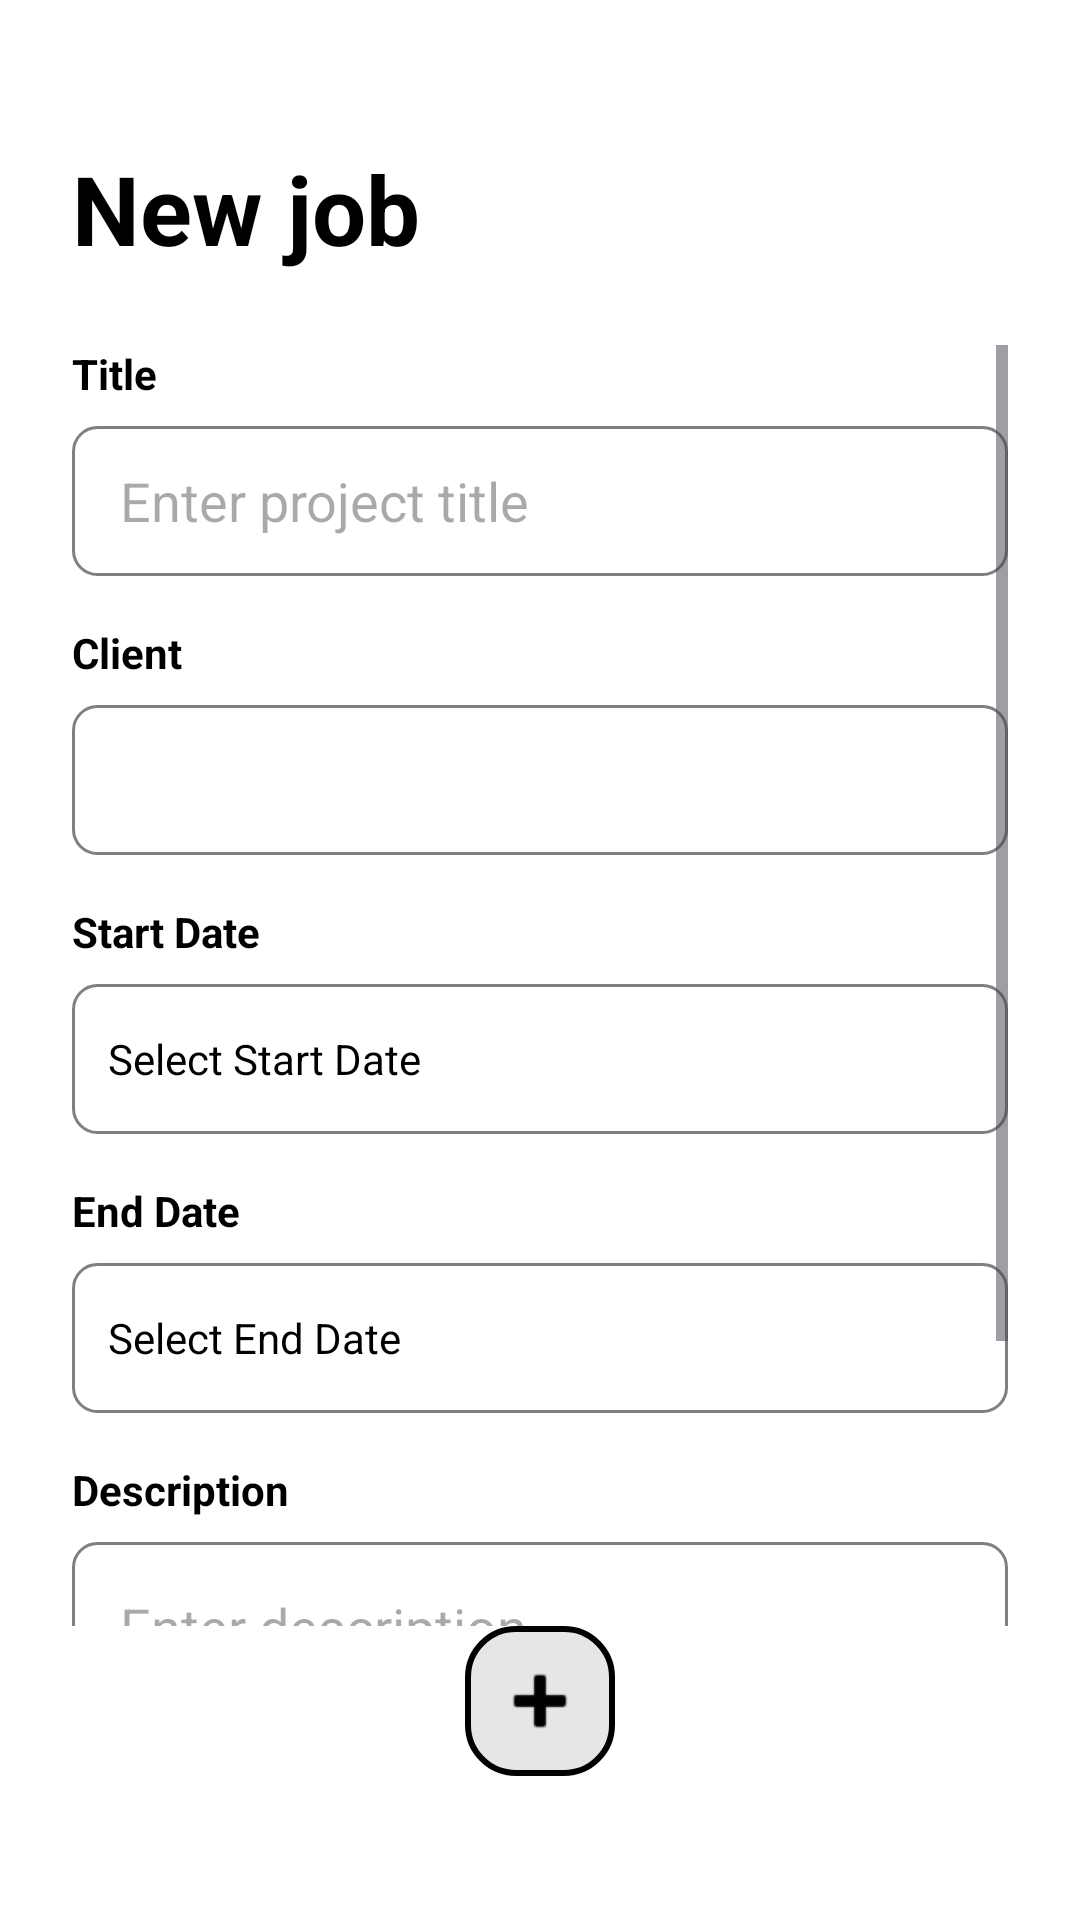

Screen size 1080w x 1920h. Icon name, then its center in pixels as [x,y]:
add: [540,1701]
